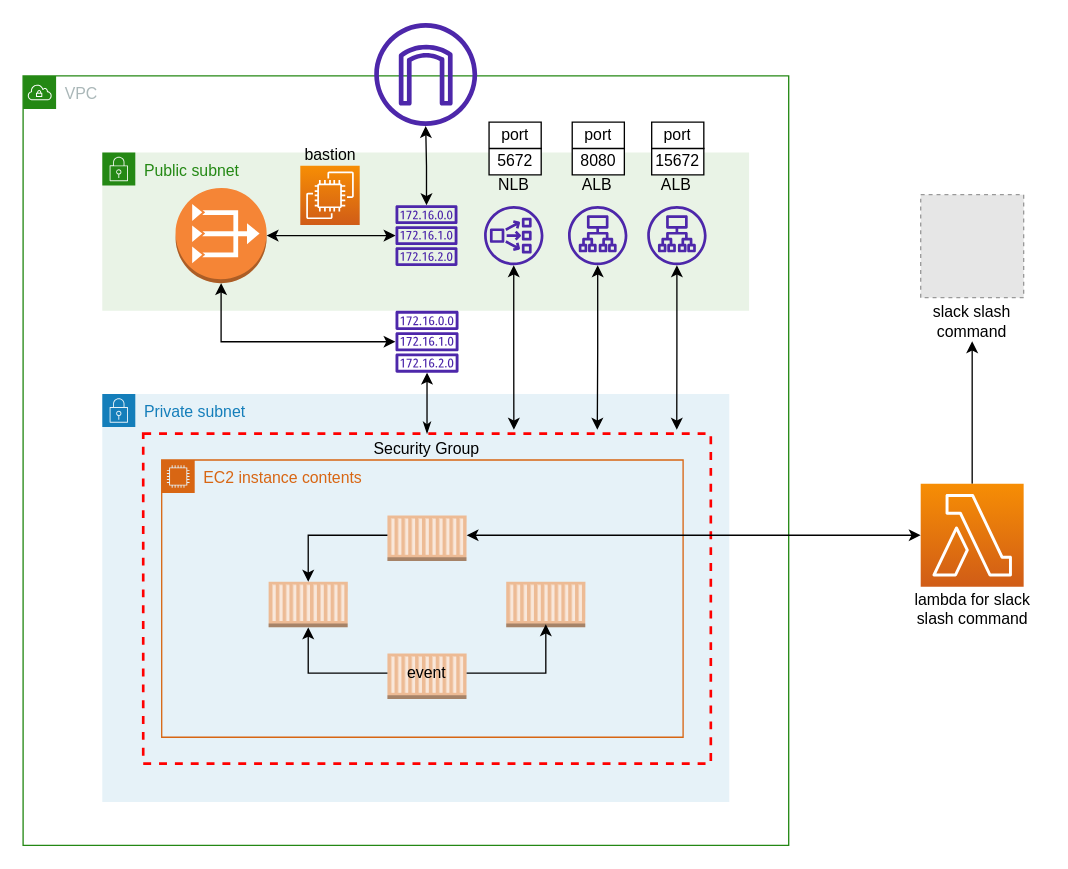
This 1068x869 diagram has some shape labels left out. Grey dashed boxes stand in for pictures. The shapes that lost their labels are listed below. From the top down, each one's centre as x and y in pixels, then its label:
(x=426, y=537): api 8080
(x=307, y=603): mongodb 27017
(x=545, y=603): rabbitmq 5672/15672
